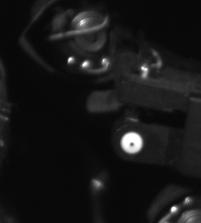fiber: (115, 127, 150, 163)
